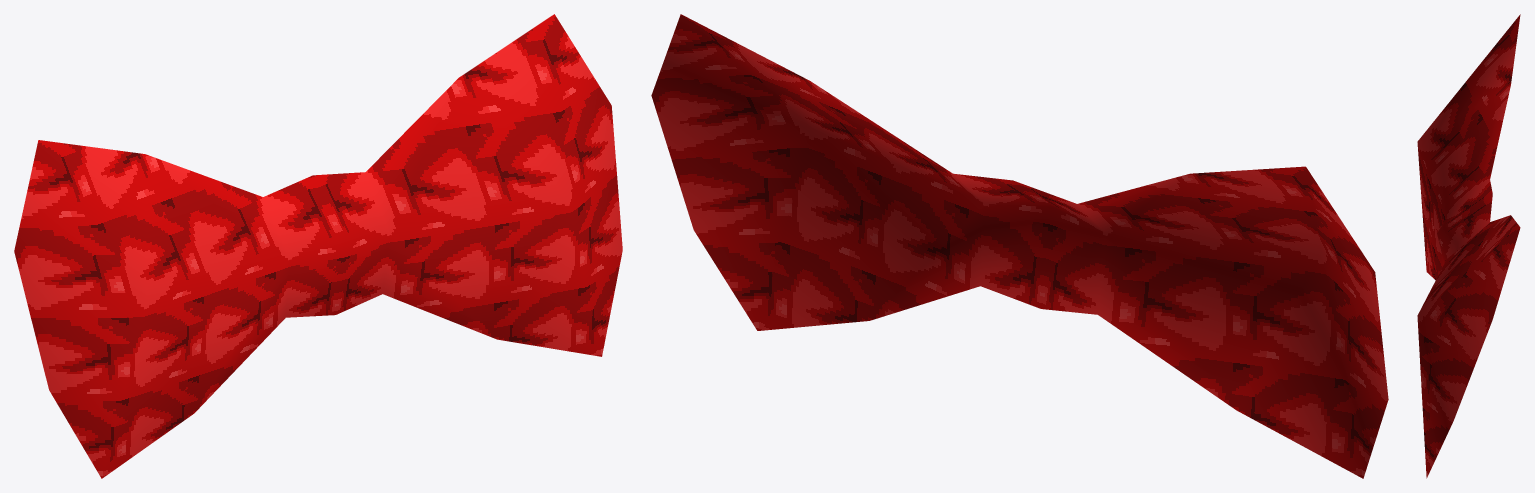
The model's file is code_head58.gltf.
3 renders of one model, left to right at view 1: azimuth 30°, elevation 25°; view 2: azimuth 150°, elevation 25°; view 3: azimuth 270°, elevation 25°, orthographic. The views are drawn at different scales.
Parts seen in each view (by area): view 1: code_head58; view 2: code_head58; view 3: code_head58.
Boxes of the visible parts, x1,y1,x2,y2 form: code_head58: (14, 14, 622, 478); code_head58: (651, 14, 1388, 478); code_head58: (1417, 14, 1520, 478).
Size of the model in its own units: 0.6235 by 0.2996 by 0.1099.
1 material, 1 textured.
